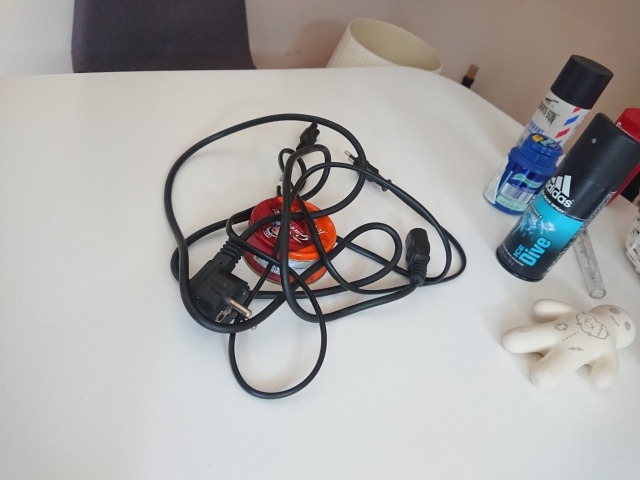Gavrilovic Pork Liver Pate 100g: (238, 194, 338, 288)
